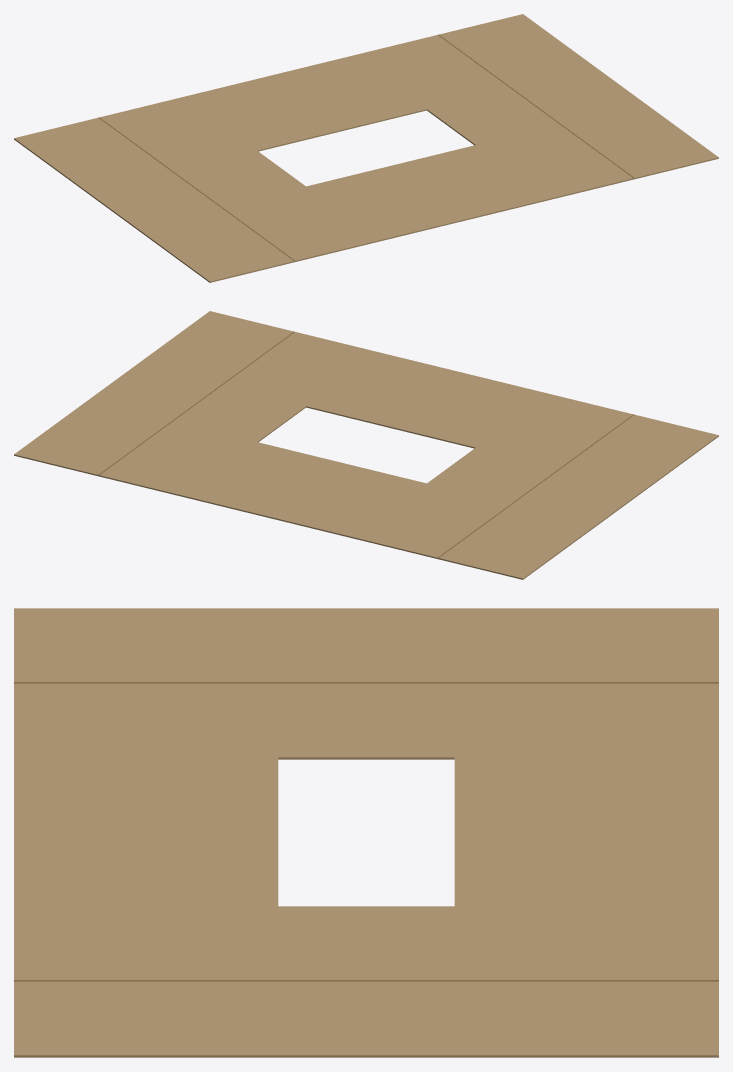
Rendered from paper.glb.
3 views of the same model, one above another, from view 1: azimuth 30°, elevation 25°; view 2: azimuth 150°, elevation 25°; view 3: azimuth 270°, elevation 25° (orthographic). The views are drawn at different scales.
Parts seen in each view (by area): view 1: WindowSide_-1, WindowSide_1, WindowEnd_1, WindowEnd_-1; view 2: WindowSide_-1, WindowSide_1, WindowEnd_-1, WindowEnd_1; view 3: WindowSide_1, WindowSide_-1, WindowEnd_-1, WindowEnd_1, WindowCrease_-0.16, WindowCrease_0.16.
Boxes of the visible parts, x1,y1,x2,y2 form: WindowSide_-1: (14,97,379,282); WindowSide_1: (353,14,718,199); WindowEnd_1: (306,145,549,241); WindowEnd_-1: (184,55,426,151); WindowSide_-1: (353,394,718,579); WindowSide_1: (14,311,379,496); WindowEnd_-1: (183,442,426,538); WindowEnd_1: (306,352,548,448); WindowSide_1: (14,906,718,1057); WindowSide_-1: (14,608,718,759); WindowEnd_-1: (454,757,718,906); WindowEnd_1: (14,757,278,906); WindowCrease_-0.16: (14,682,718,683); WindowCrease_0.16: (14,980,718,981).
Bounding box in the file's own units: 0.48 × 0.0013 × 0.32.
